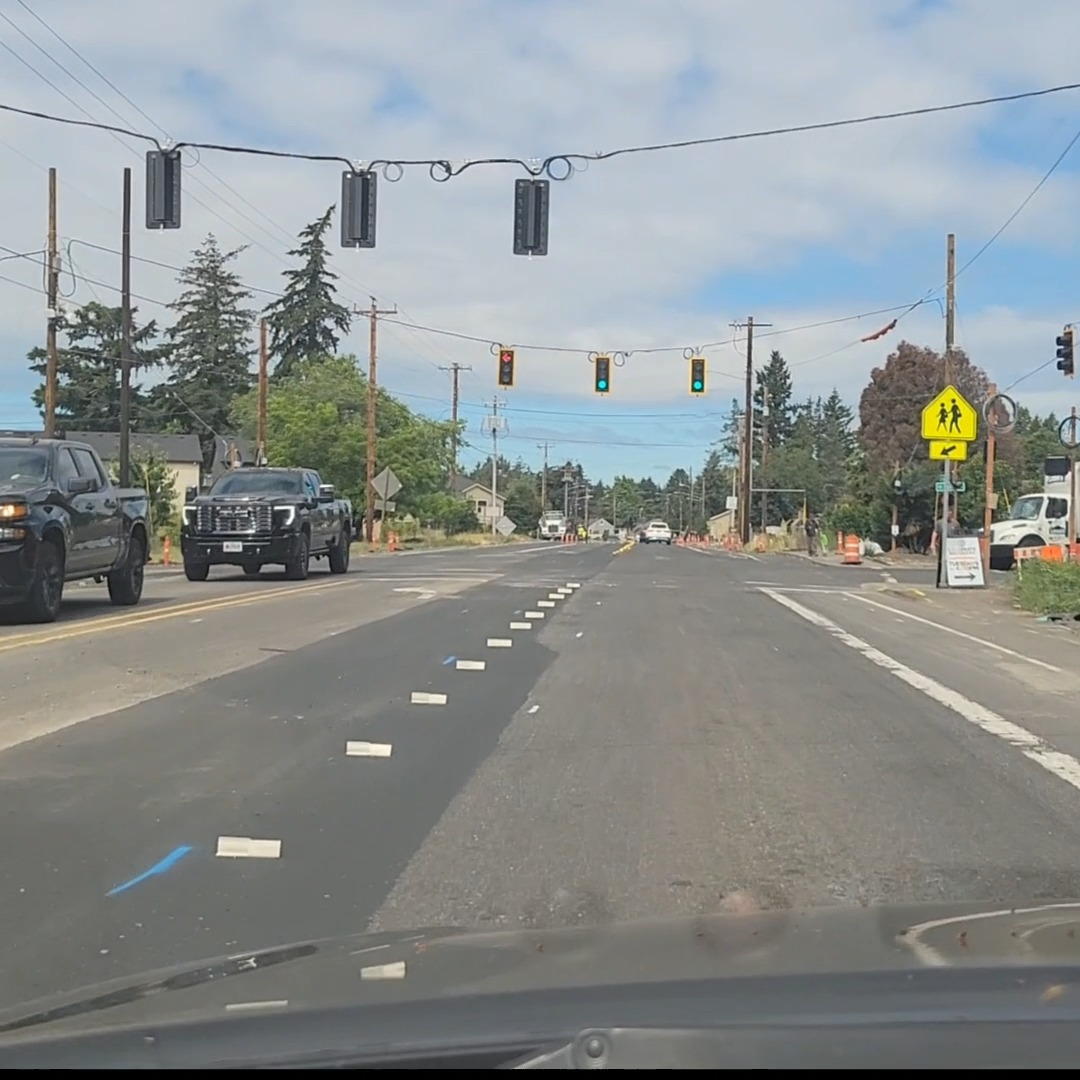car: (0, 436, 149, 619), (178, 466, 355, 582), (637, 520, 673, 544)
